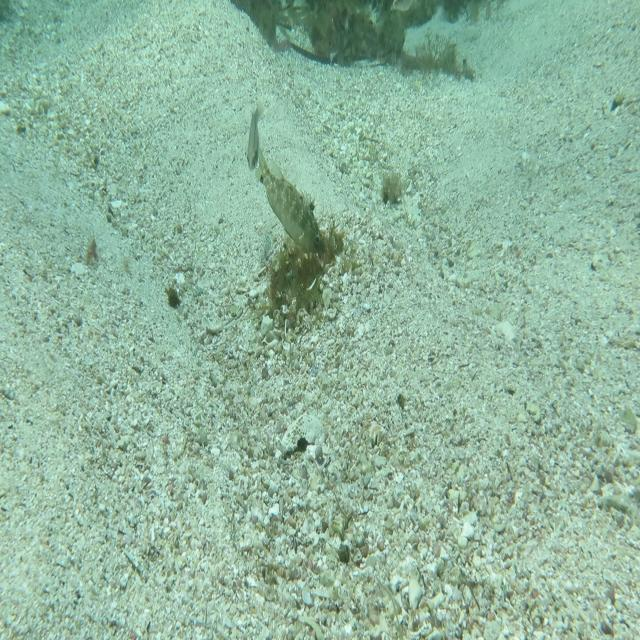NIP_CORE: (250, 138, 330, 268)
female: (242, 100, 271, 174)
nest: (259, 222, 352, 331)
vegetation: (248, 0, 495, 23), (272, 24, 420, 57), (381, 171, 401, 208)
